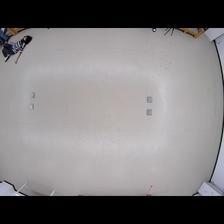fall: (1, 34, 33, 64)
